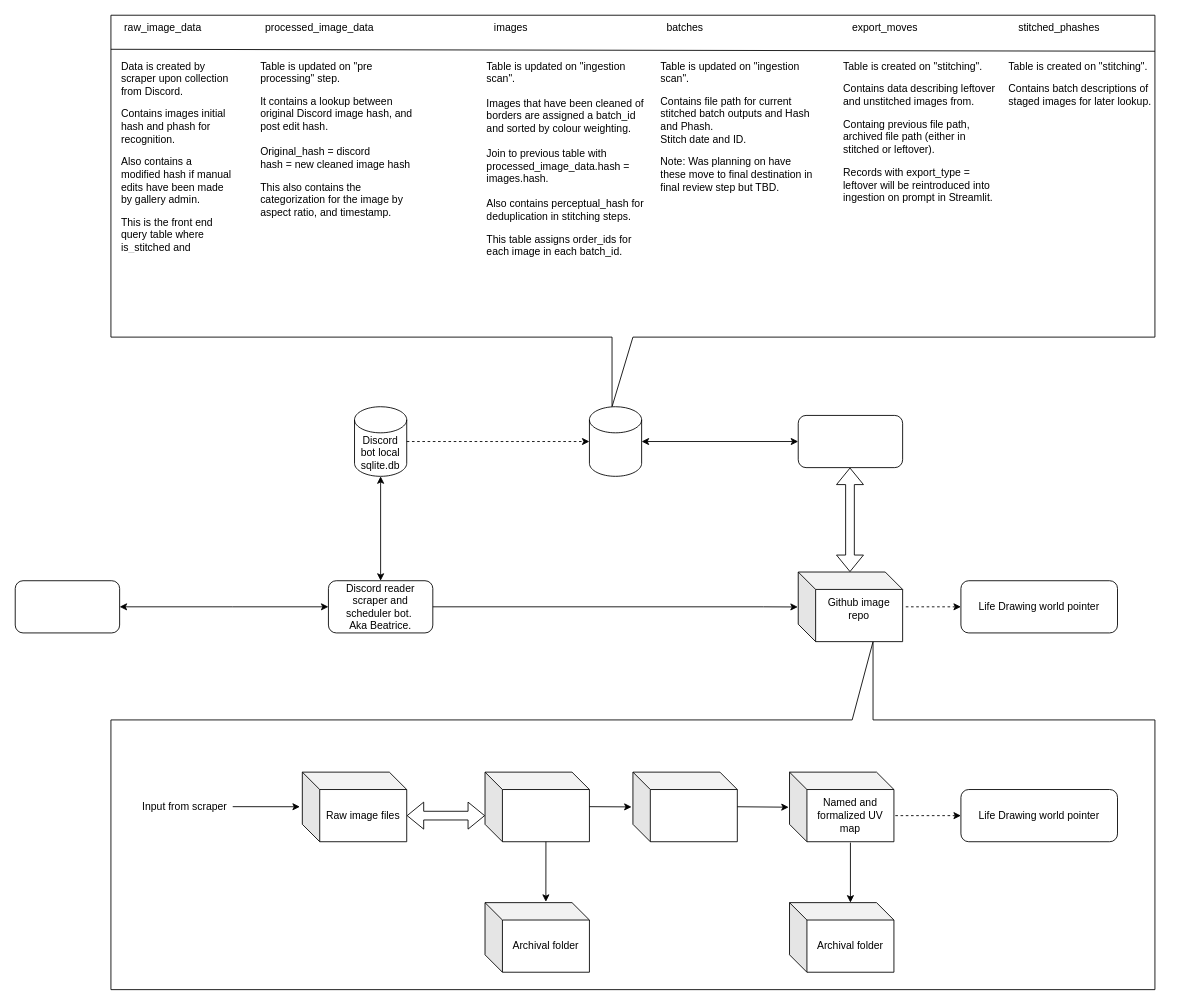
The diagram is 1179 pixels wide and 1005 high, and some of its shapes have lost their labels. Each missing label, with the centre of its shape:
Discord: (x=67, y=606)
images_db: (x=615, y=441)
Normalized and sorted image files: (x=536, y=806)
Stitched outputs: (x=684, y=806)
Streamlit.io app: (x=850, y=441)
